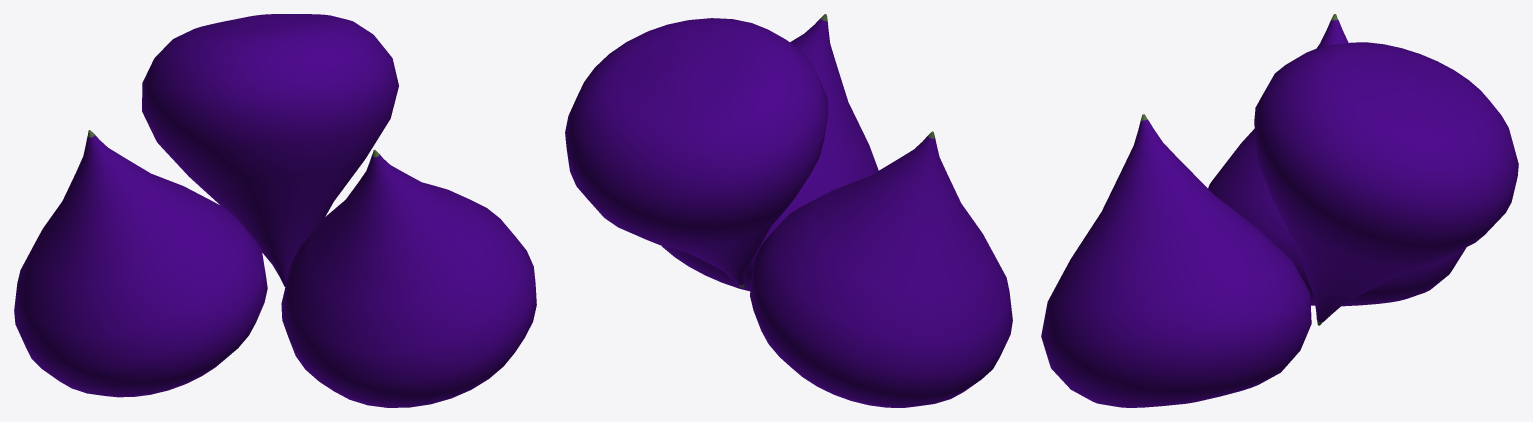
The model's file is higo.fbx.
3 renders of one model, left to right at view 1: azimuth 30°, elevation 25°; view 2: azimuth 150°, elevation 25°; view 3: azimuth 270°, elevation 25°, orthographic. The views are drawn at different scales.
Visible parts, largest first — view 1: Sphere.002, Sphere.001, Sphere; view 2: Sphere, Sphere.001, Sphere.002; view 3: Sphere, Sphere.002, Sphere.001.
Boxes of the visible parts, x1,y1,x2,y2 form: Sphere.002: [281, 154, 536, 407]; Sphere.001: [14, 134, 267, 397]; Sphere: [142, 14, 398, 286]; Sphere: [565, 18, 828, 285]; Sphere.001: [750, 135, 1012, 407]; Sphere.002: [662, 18, 878, 291]; Sphere: [1254, 42, 1518, 322]; Sphere.002: [1041, 119, 1311, 407]; Sphere.001: [1208, 20, 1466, 306].
Size of the model in its own units: 554 by 392 by 531.
